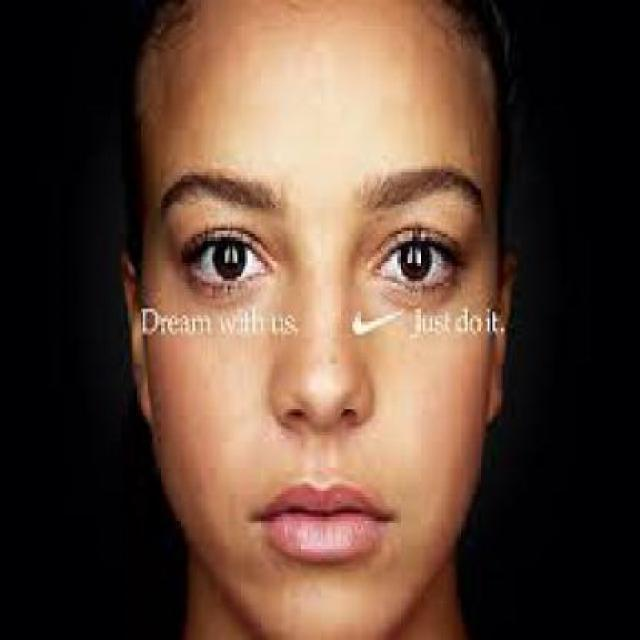Nike: (347, 299, 405, 335)
